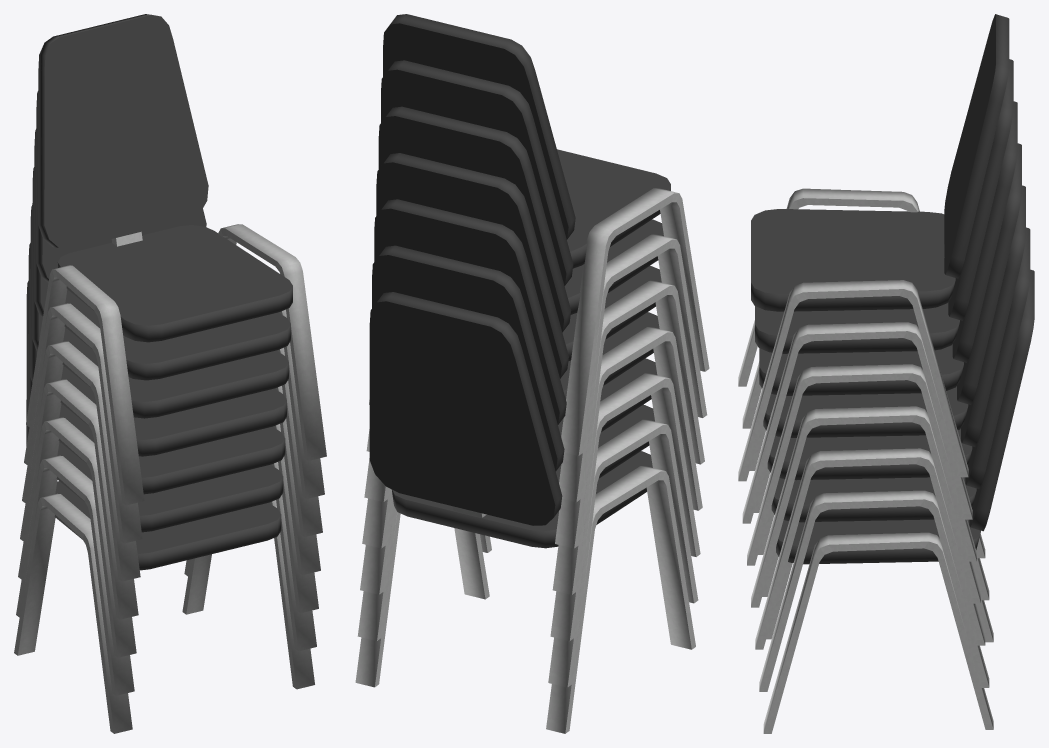
The model's file is ChairStack.fbx.
3 renders of one model, left to right at view 1: azimuth 30°, elevation 25°; view 2: azimuth 150°, elevation 25°; view 3: azimuth 270°, elevation 25°, orthographic. The views are drawn at different scales.
Parts seen in each view (by area): view 1: ChairStack; view 2: ChairStack; view 3: ChairStack.
Part boxes in pixels (<box>): ChairStack: <box>14,14,326,733</box>; ChairStack: <box>355,14,709,733</box>; ChairStack: <box>738,14,1034,733</box>.
Size of the model in its own units: 70.08 by 201 by 83.98.
2 materials, 1 textured.
